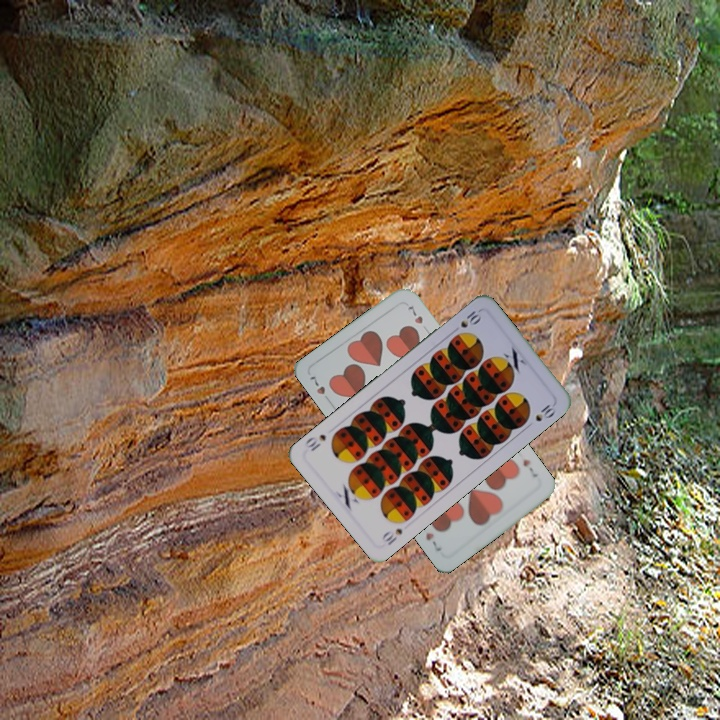H7: (305, 372, 334, 406), (519, 455, 540, 480)
S10: (448, 305, 484, 336), (378, 524, 405, 548)
